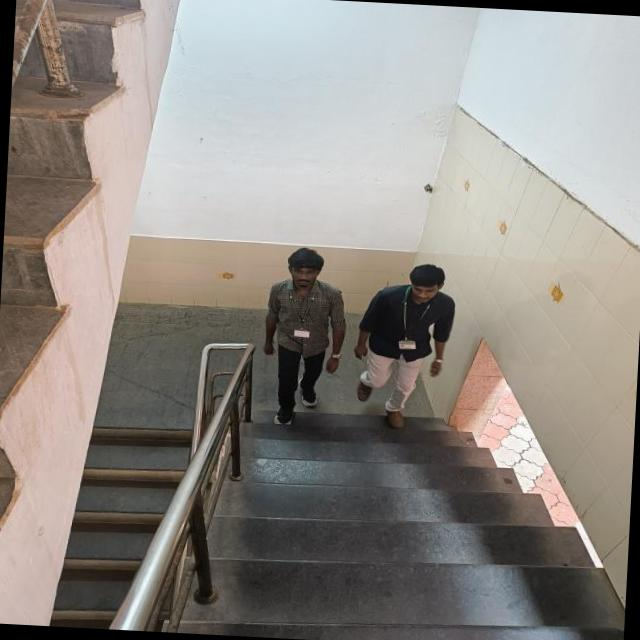id_card: (394, 292, 436, 353), (286, 282, 318, 340)
